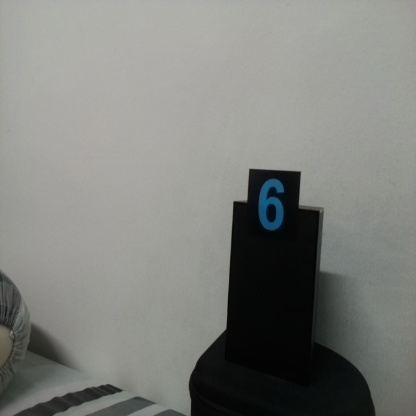id_6: (249, 169, 299, 250)
